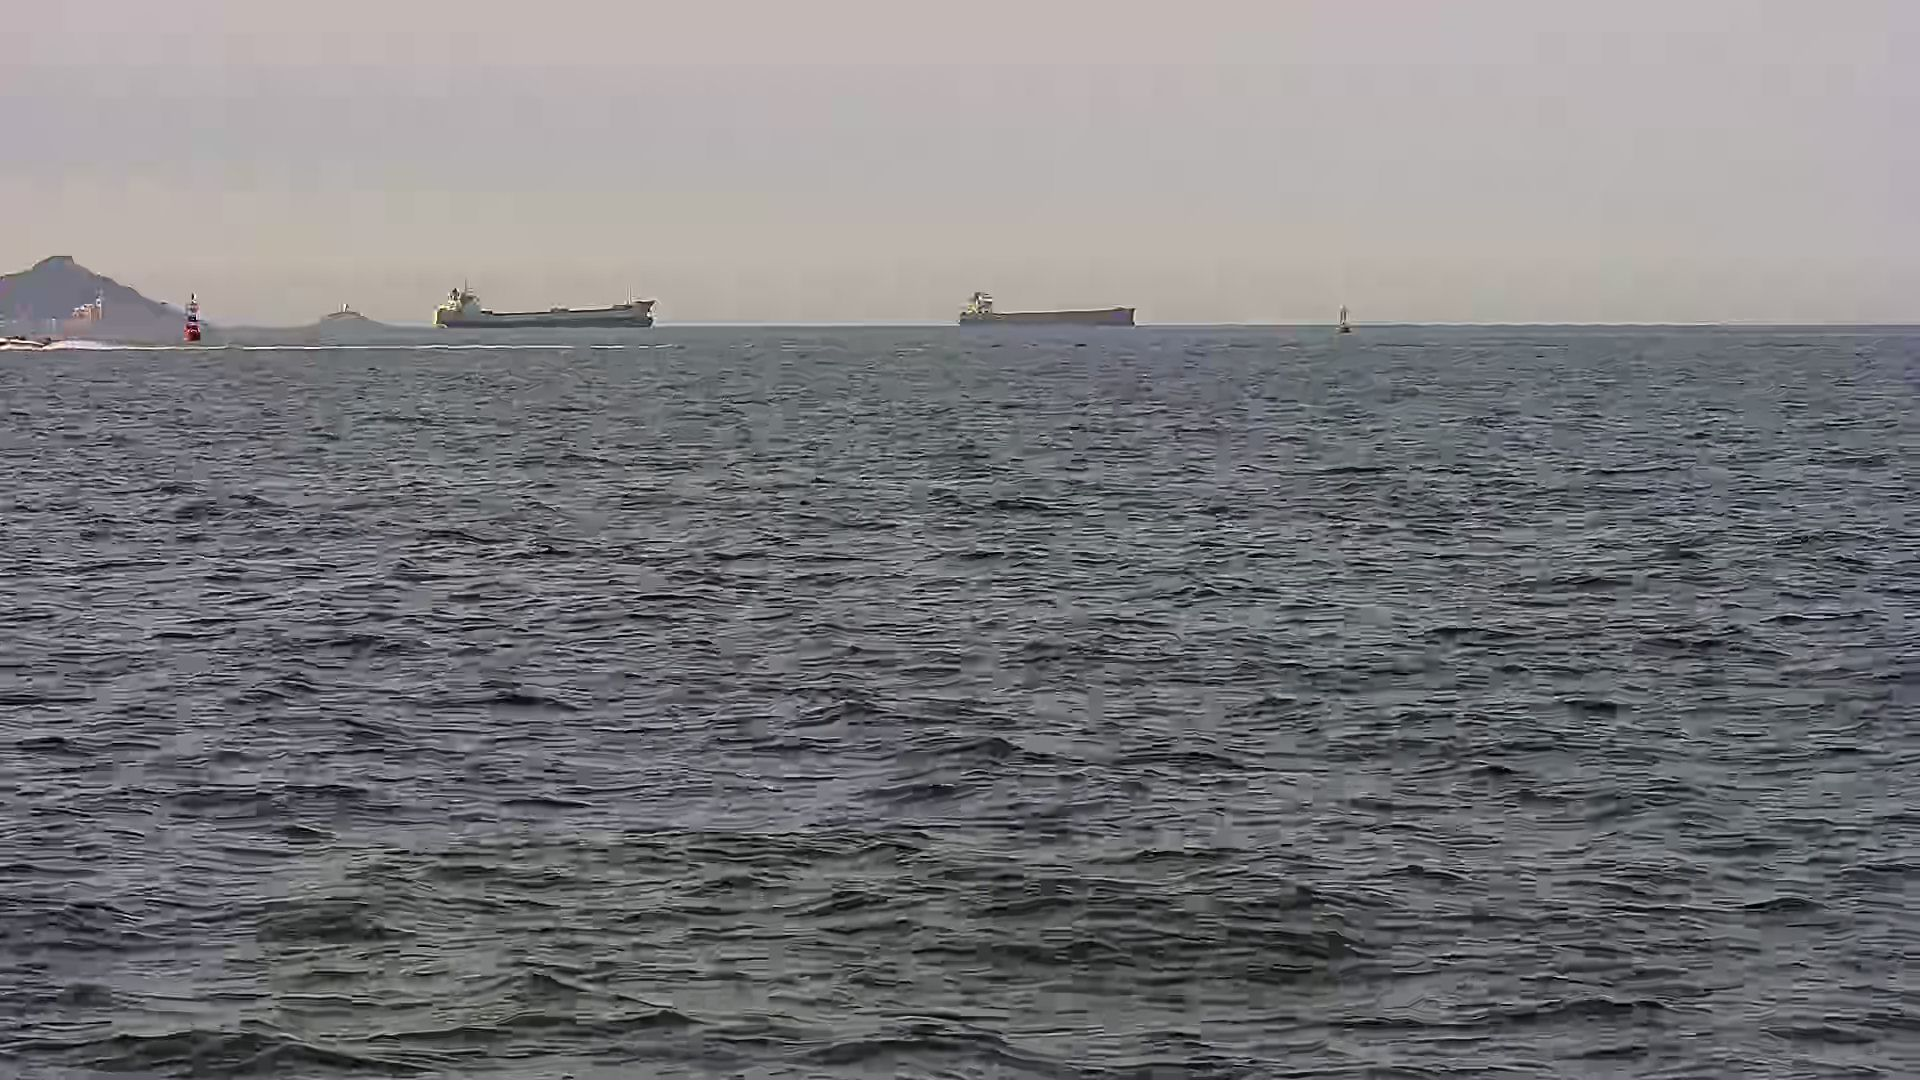buoy: (177, 277, 216, 355), (1328, 295, 1360, 335)
rock: (294, 297, 385, 345)
ship: (947, 277, 1145, 348), (429, 284, 655, 336)
